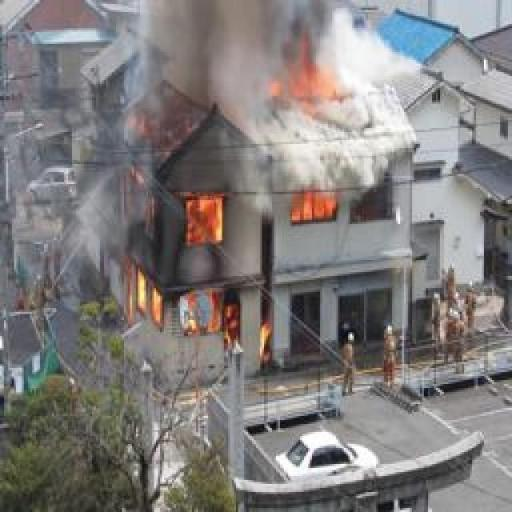smoke: (120, 153, 242, 340), (263, 44, 351, 102), (290, 190, 342, 228)
